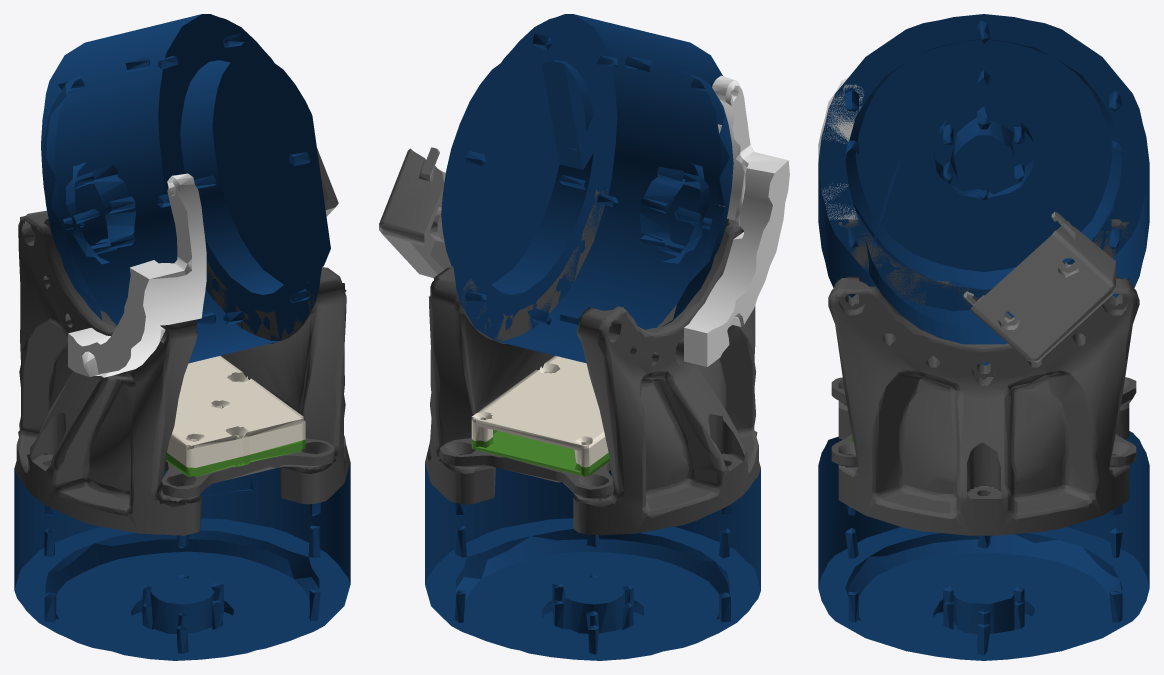
Rendered from left_shoulder_pitch.obj.
3 views of the same model, side by side, from view 1: azimuth 30°, elevation 25°; view 2: azimuth 150°, elevation 25°; view 3: azimuth 270°, elevation 25° (orthographic).
Parts seen in each view (by area): view 1: AK10_9, N16_23_P01_01_Link_Shoulder_Start, N16_23_P01_52_Endstop_Shoulder_End_B, GIMU_P04_02_IMU_Housing_Top_Thru_Hole, N16_23_P01_03_IMU_Mount_Shoulder, GIMU_P04_01_IMU_Housing_Base_Thru_Hole, Part_2; view 2: AK10_9, N16_23_P01_01_Link_Shoulder_Start, N16_23_P01_52_Endstop_Shoulder_End_B, GIMU_P04_02_IMU_Housing_Top_Thru_Hole, Part_2, N16_23_P01_03_IMU_Mount_Shoulder, GIMU_P04_01_IMU_Housing_Base_Thru_Hole; view 3: AK10_9, N16_23_P01_01_Link_Shoulder_Start, Part_2, N16_23_P01_03_IMU_Mount_Shoulder, N16_23_P01_52_Endstop_Shoulder_End_B.
Boxes of the visible parts, box(x1,y1,x2,y2) form: AK10_9: box(14, 14, 350, 660); N16_23_P01_01_Link_Shoulder_Start: box(14, 210, 350, 535); N16_23_P01_52_Endstop_Shoulder_End_B: box(68, 173, 206, 377); GIMU_P04_02_IMU_Housing_Top_Thru_Hole: box(167, 356, 305, 467); N16_23_P01_03_IMU_Mount_Shoulder: box(161, 438, 334, 501); GIMU_P04_01_IMU_Housing_Base_Thru_Hole: box(165, 408, 305, 477); Part_2: box(317, 148, 338, 216); AK10_9: box(425, 14, 760, 660); N16_23_P01_01_Link_Shoulder_Start: box(425, 189, 760, 535); N16_23_P01_52_Endstop_Shoulder_End_B: box(684, 75, 789, 366); GIMU_P04_02_IMU_Housing_Top_Thru_Hole: box(471, 355, 608, 467); Part_2: box(379, 147, 451, 278); N16_23_P01_03_IMU_Mount_Shoulder: box(439, 438, 613, 500); GIMU_P04_01_IMU_Housing_Base_Thru_Hole: box(471, 430, 609, 476); AK10_9: box(818, 14, 1149, 660); N16_23_P01_01_Link_Shoulder_Start: box(828, 219, 1139, 535); Part_2: box(963, 211, 1115, 362); N16_23_P01_03_IMU_Mount_Shoulder: box(831, 377, 1136, 467); N16_23_P01_52_Endstop_Shoulder_End_B: box(818, 77, 863, 219).
Size of the model in its own units: 0.1 by 0.189 by 0.098.
